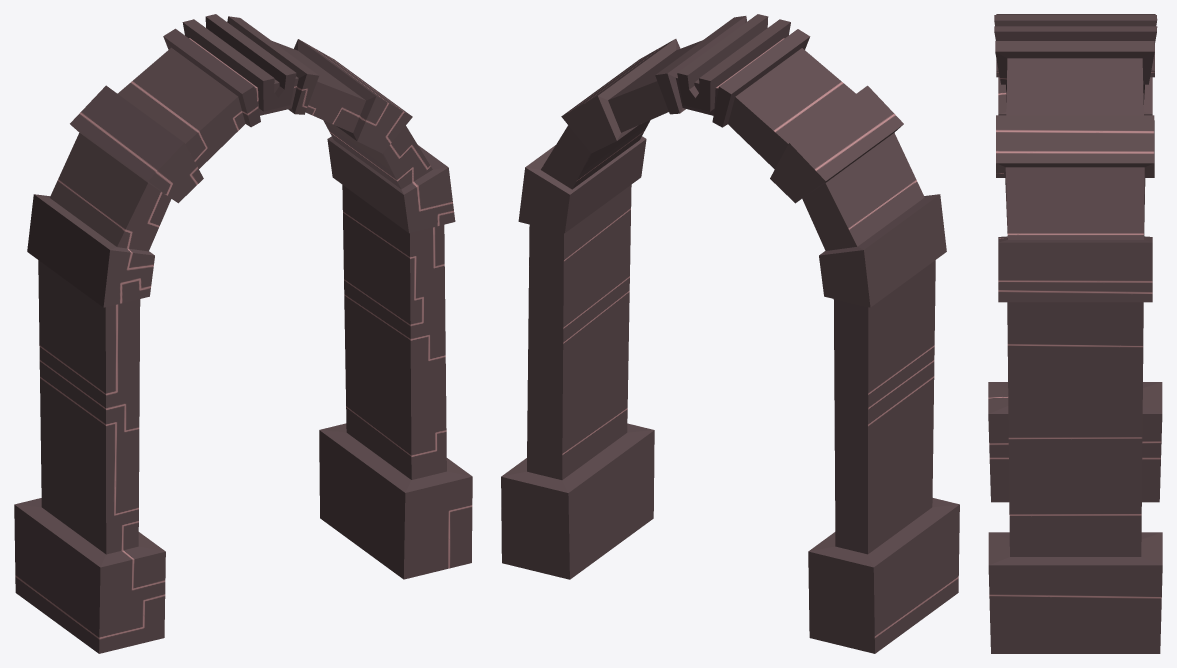
Rendered from Portail_LPDC_3D_Textures.fbx.
3 views of the same model, side by side, from view 1: azimuth 30°, elevation 25°; view 2: azimuth 150°, elevation 25°; view 3: azimuth 270°, elevation 25° (orthographic).
Visible parts, largest first — view 1: Cube; view 2: Cube; view 3: Cube.
Part boxes in pixels (x1,y1,x2,y2): Cube: (14,14,472,653); Cube: (501,14,959,653); Cube: (988,14,1162,653).
Bounding box in the file's own units: 372 × 507 × 149.
1 material, 1 textured.
